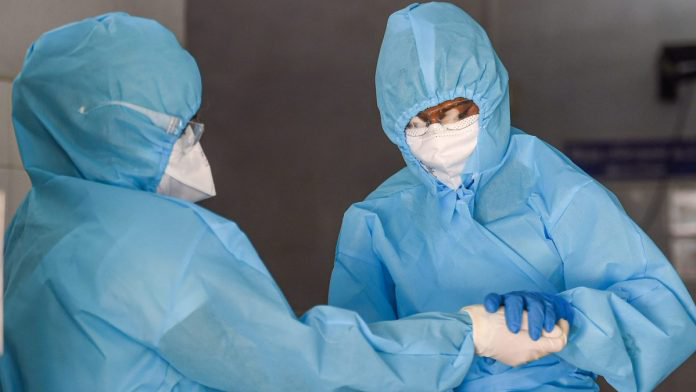Coverall: (1, 12, 470, 391), (325, 3, 694, 389)
Gloves: (465, 307, 566, 364), (484, 290, 575, 342)
Goggles: (140, 111, 204, 152), (402, 103, 481, 136)
with_mask: (400, 115, 482, 185), (155, 122, 217, 202)
